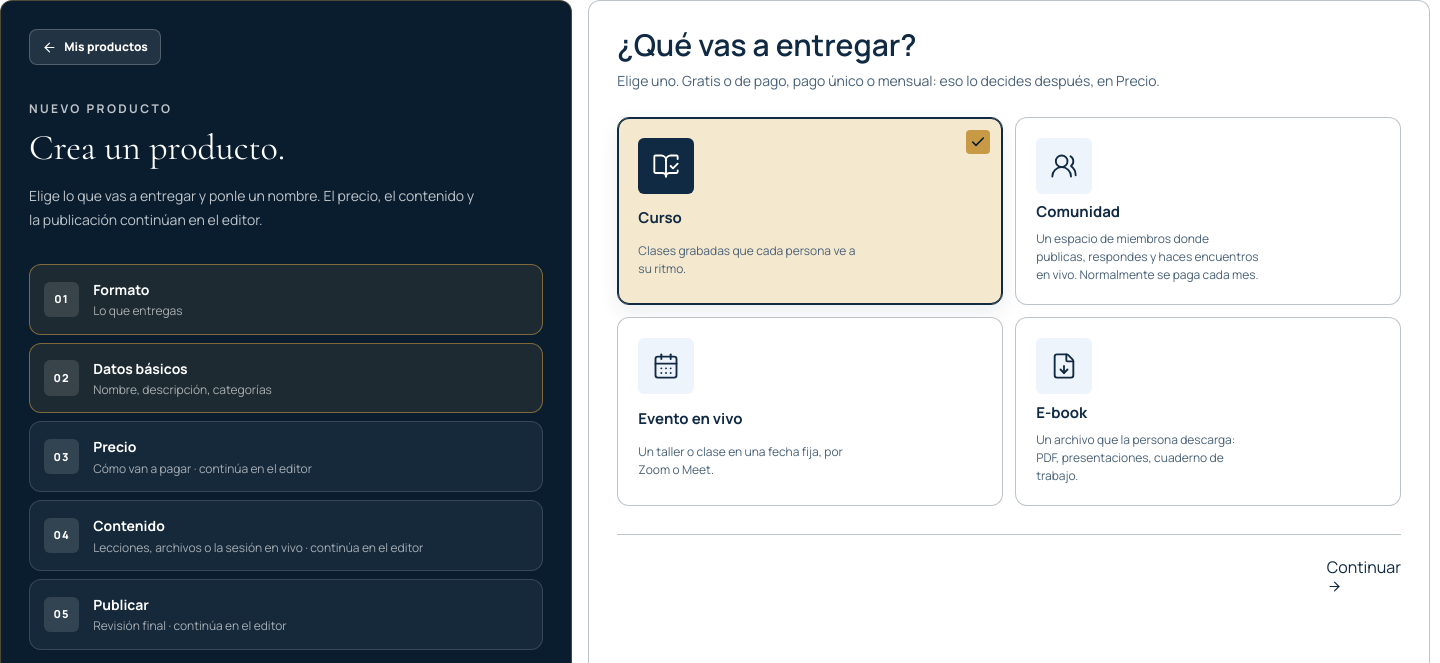
Test case: course creation with real EN/ES dictionaries › localizes the two screens, the four types and the blockers
This screenshot has width=1440, height=663.
Check: the heading "Crea un producto." is shown, box [29,126,285,169]
Check: the heading "¿Qué vas a entregar?" is shown, box [617,24,917,65]
What coordinates should you click on to do the following:
click the button "Evento en vivo"
I would click on:
 (666, 366)
Its box is [617,317,1003,506].
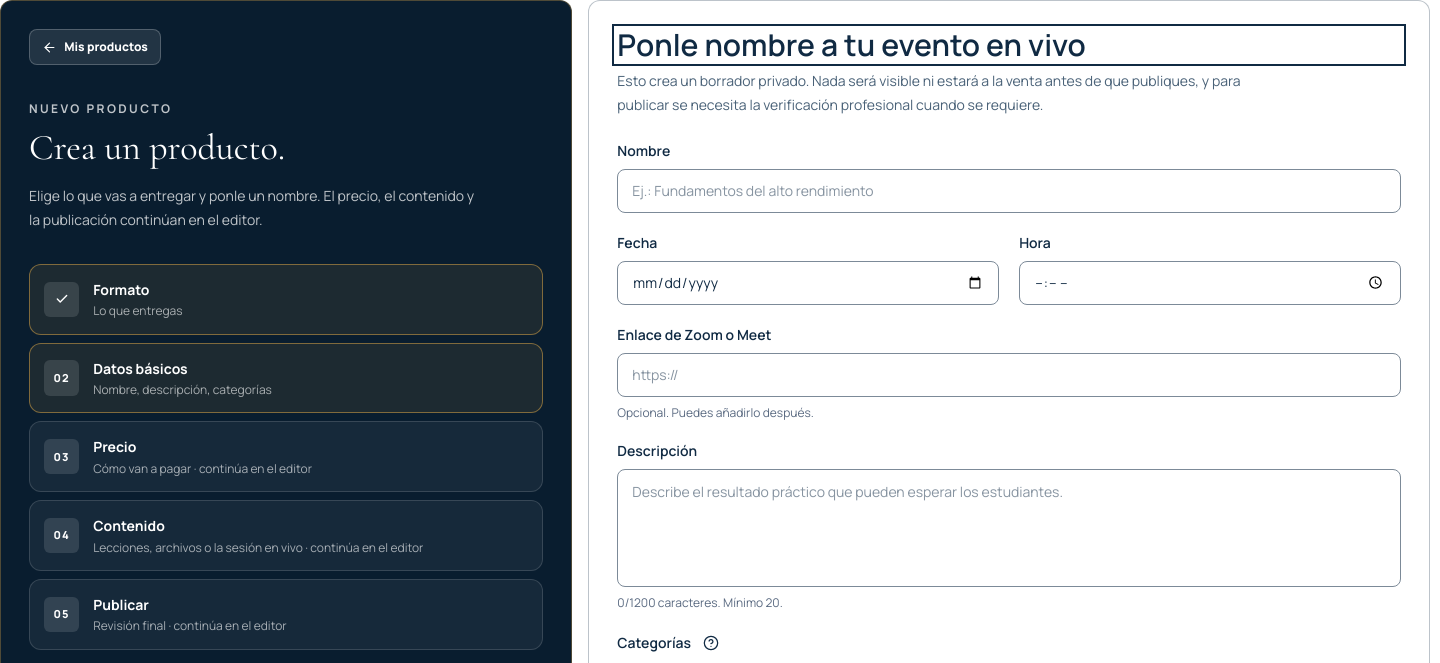
Check: the heading "Ponle nombre a tu evento en vivo" is shown, box [617,24,1086,65]
Check: the date field labelled "Fecha" is shown, box [617,260,999,304]
Check: the time field labelled "Hora" is shown, box [1019,260,1401,304]
